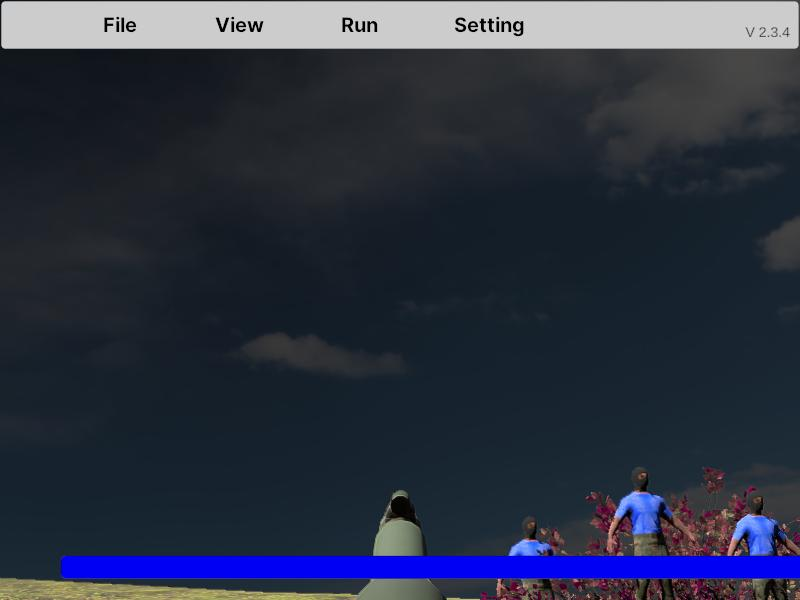Human: (607, 465, 698, 600), (725, 491, 800, 600)
